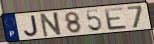5: (85, 8, 104, 33)
7: (126, 4, 145, 30)
8: (63, 11, 83, 34)
E: (103, 6, 129, 32)
J: (23, 15, 39, 38)
N: (39, 11, 64, 38)
